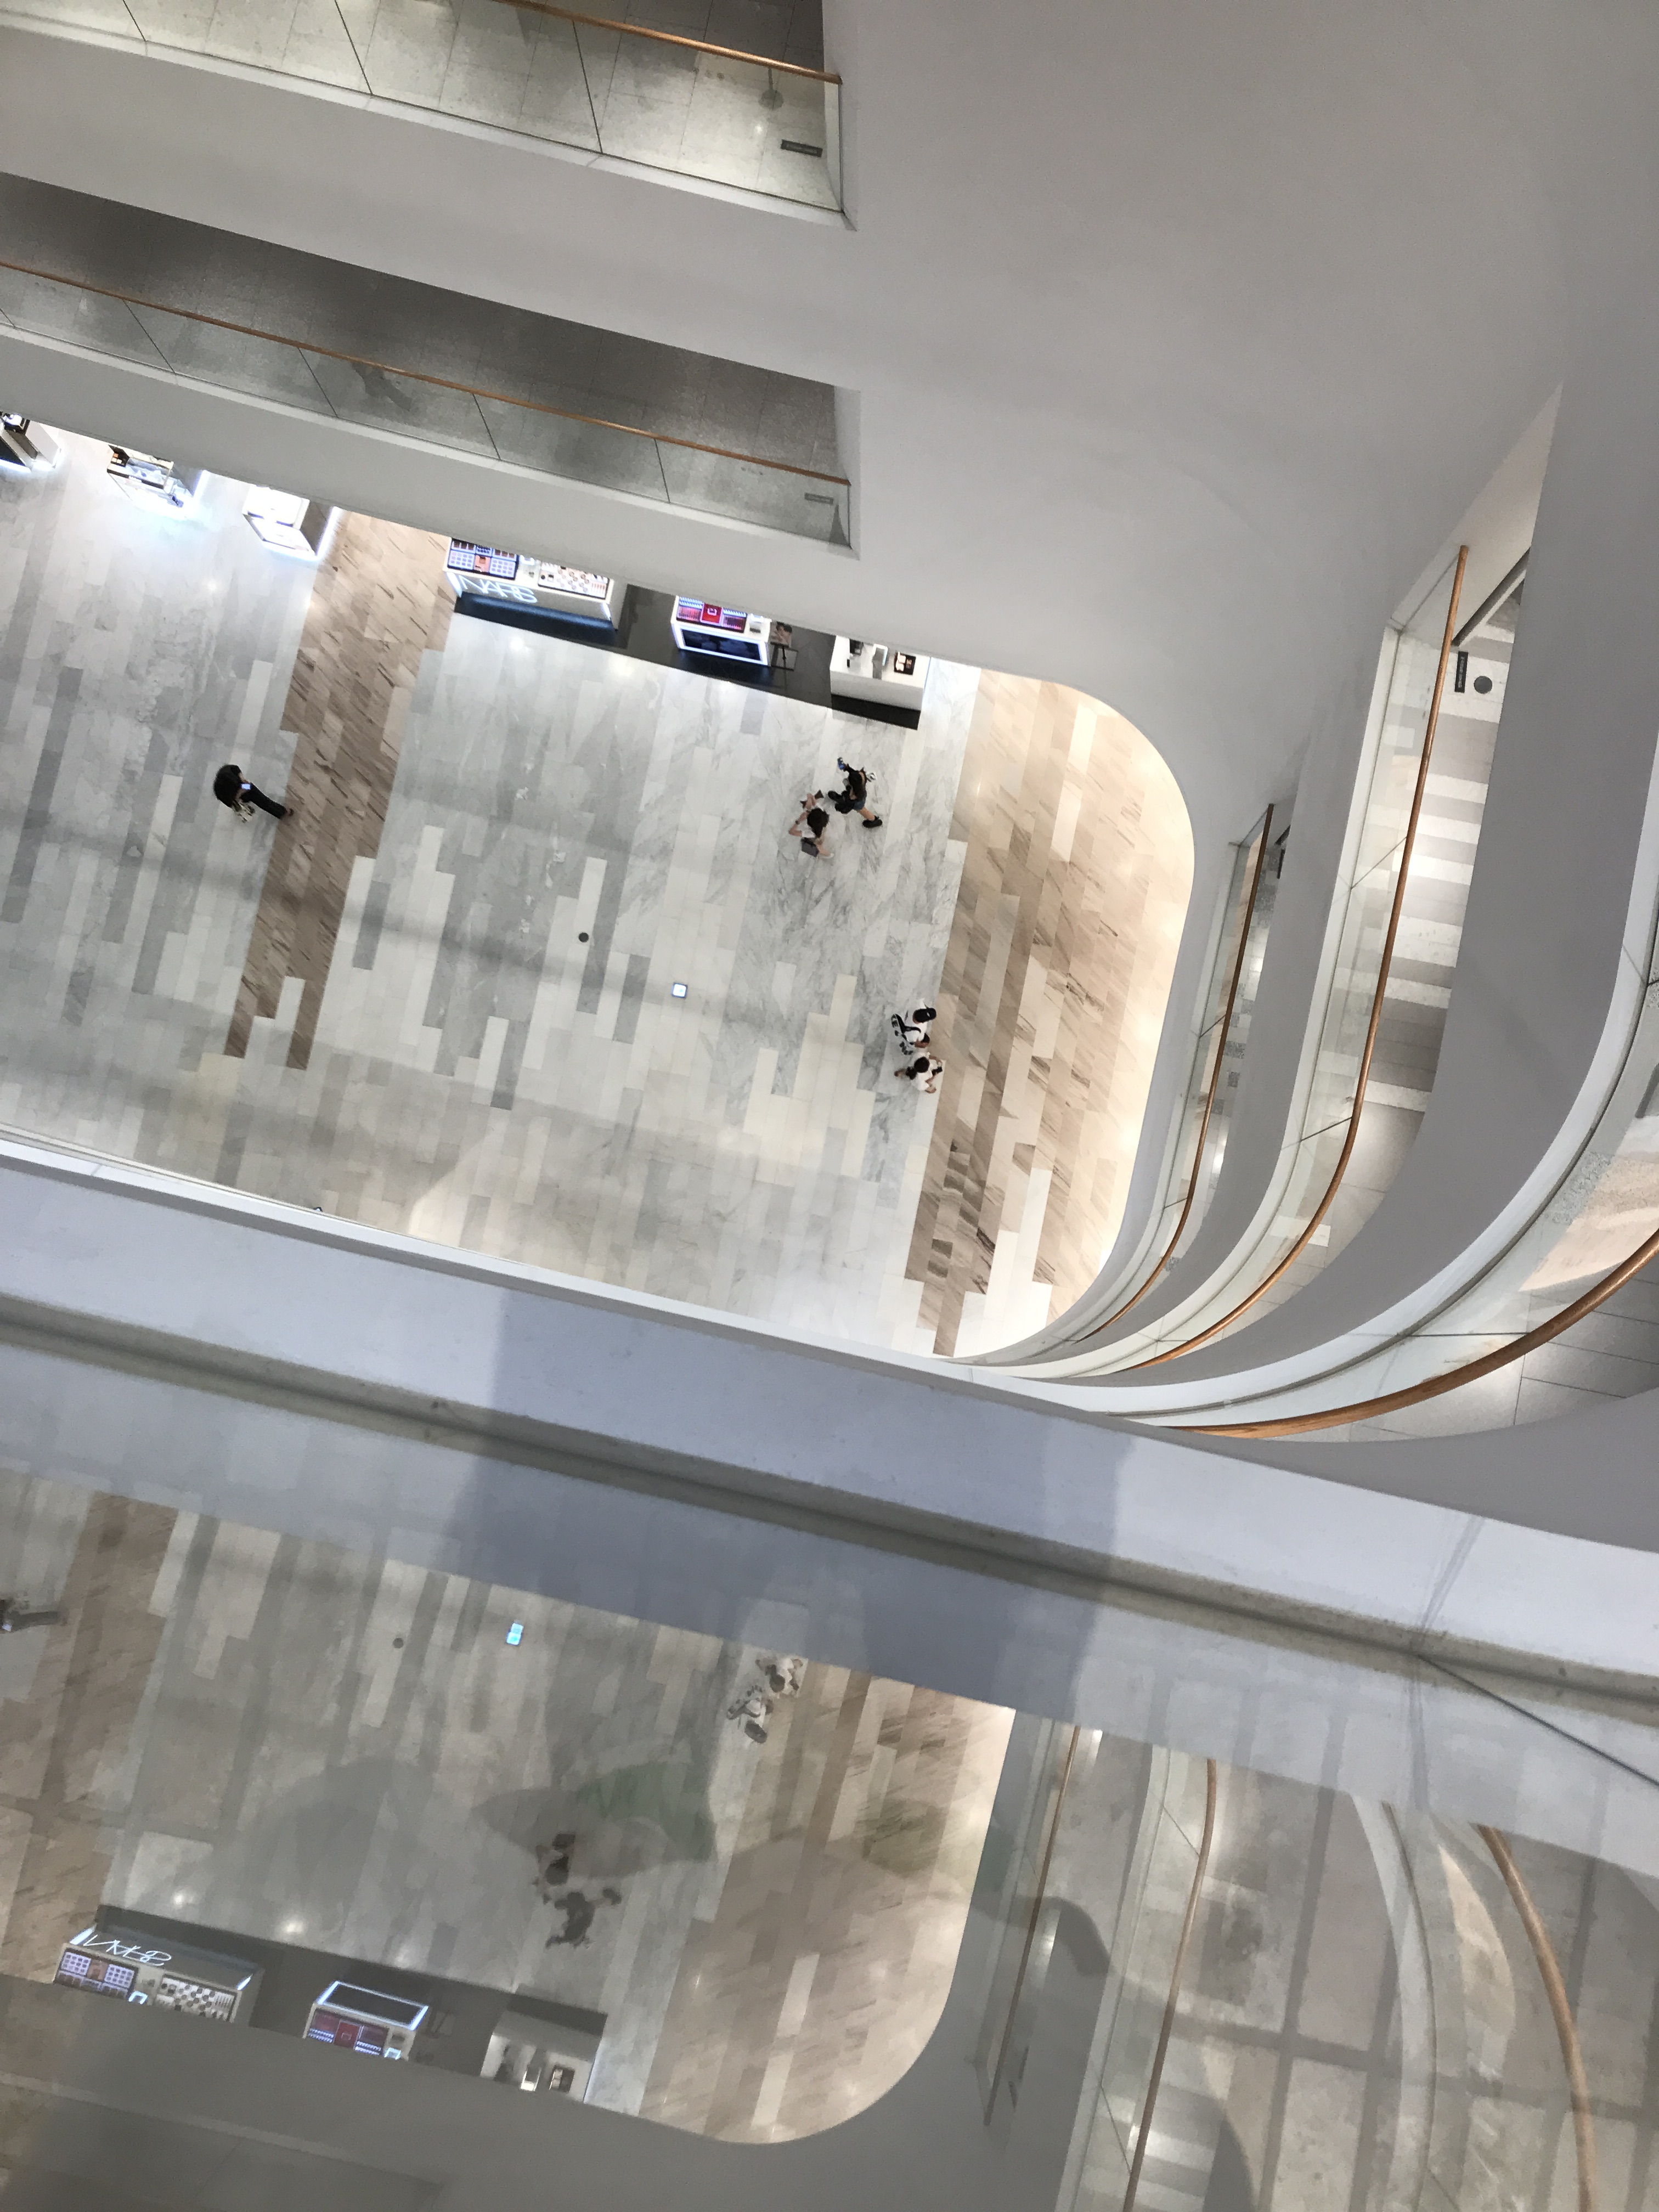person: (208, 763, 297, 825), (826, 754, 884, 831), (785, 789, 838, 862), (889, 995, 936, 1057), (894, 1047, 944, 1098)
